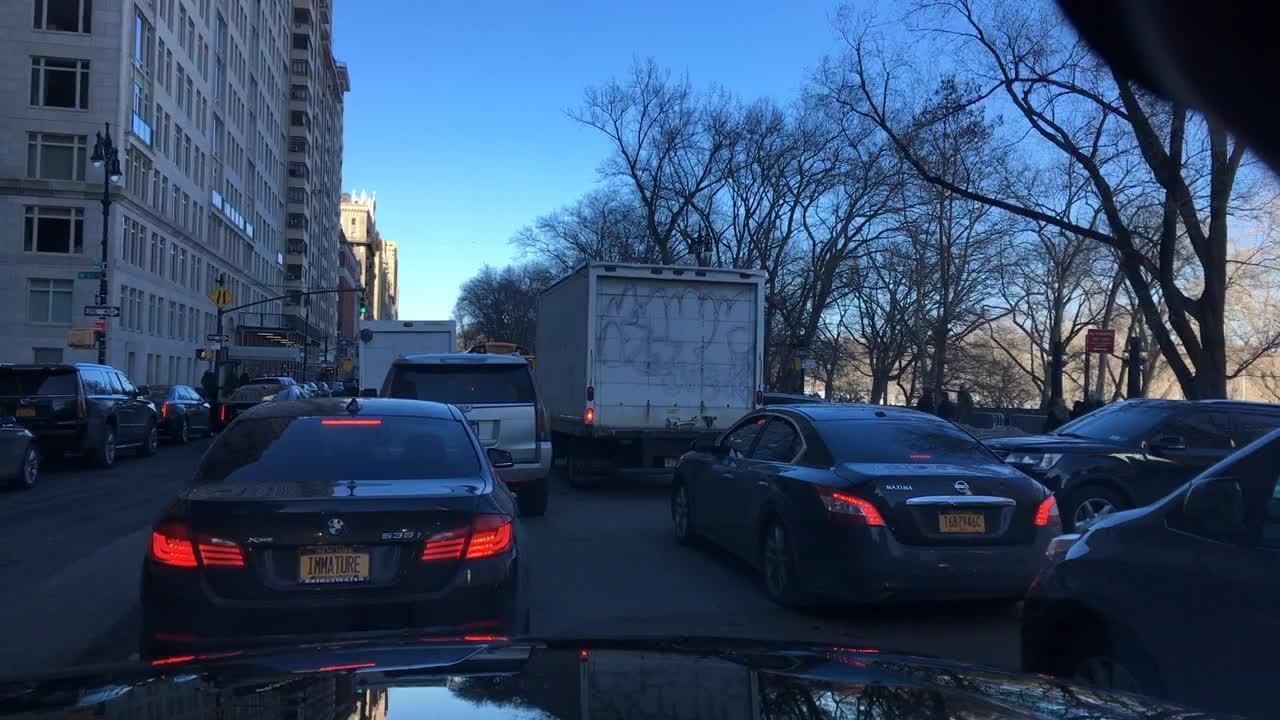Nissan: (955, 479, 976, 495)
bmw: (324, 514, 347, 540)
